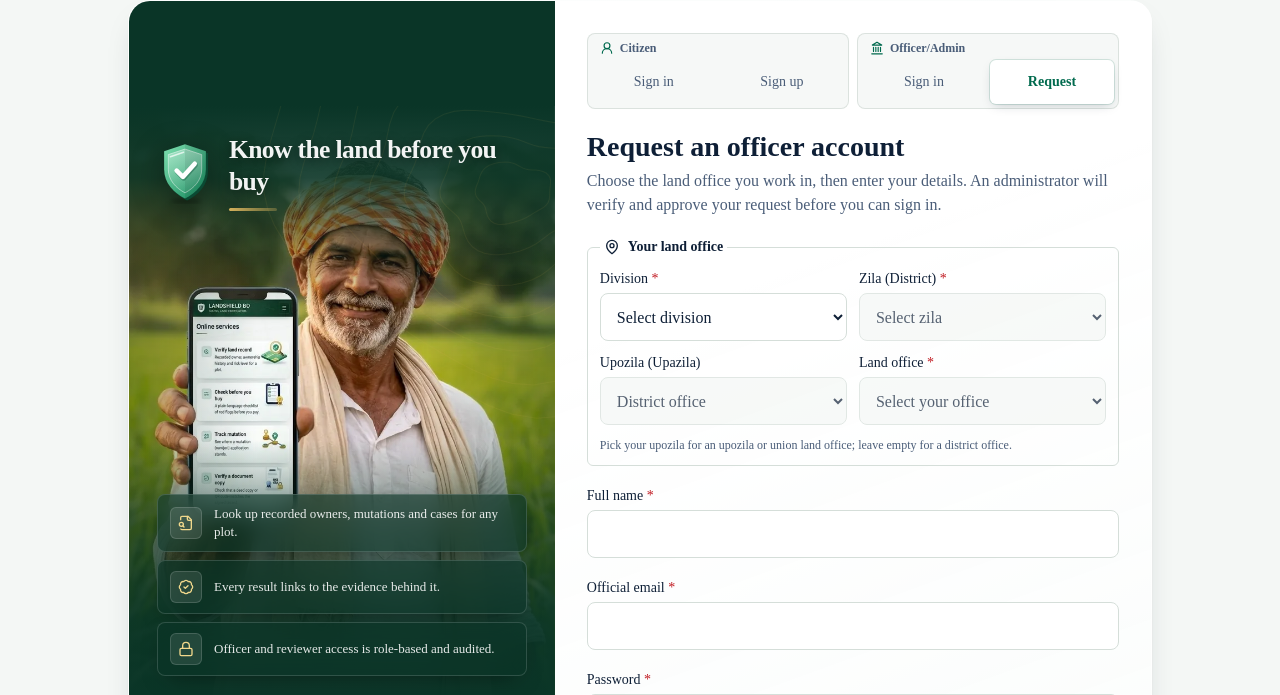
Test: officer signup › cascades division > zila > upozila > office, both languages in every list
Expected: the dropdown labelled "Zila (District) *" is disabled, left=859, top=293, right=1106, bottom=341
Select "Dhaka / ঢাকা" in the dropdown labelled "Division *" at (723, 317), box left=600, top=293, right=847, bottom=341
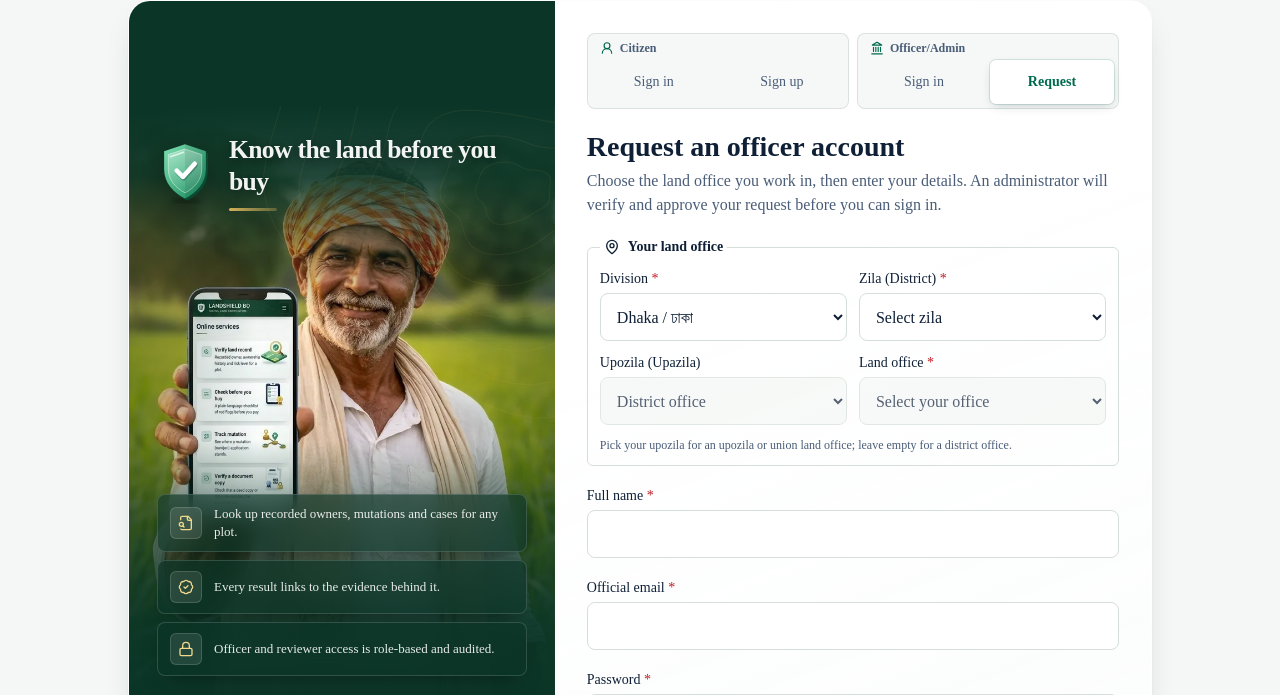
Result: the dropdown labelled "Zila (District) *" is enabled
Select "Dhaka / ঢাকা" in the dropdown labelled "Zila (District) *" at (982, 317), box left=859, top=293, right=1106, bottom=341
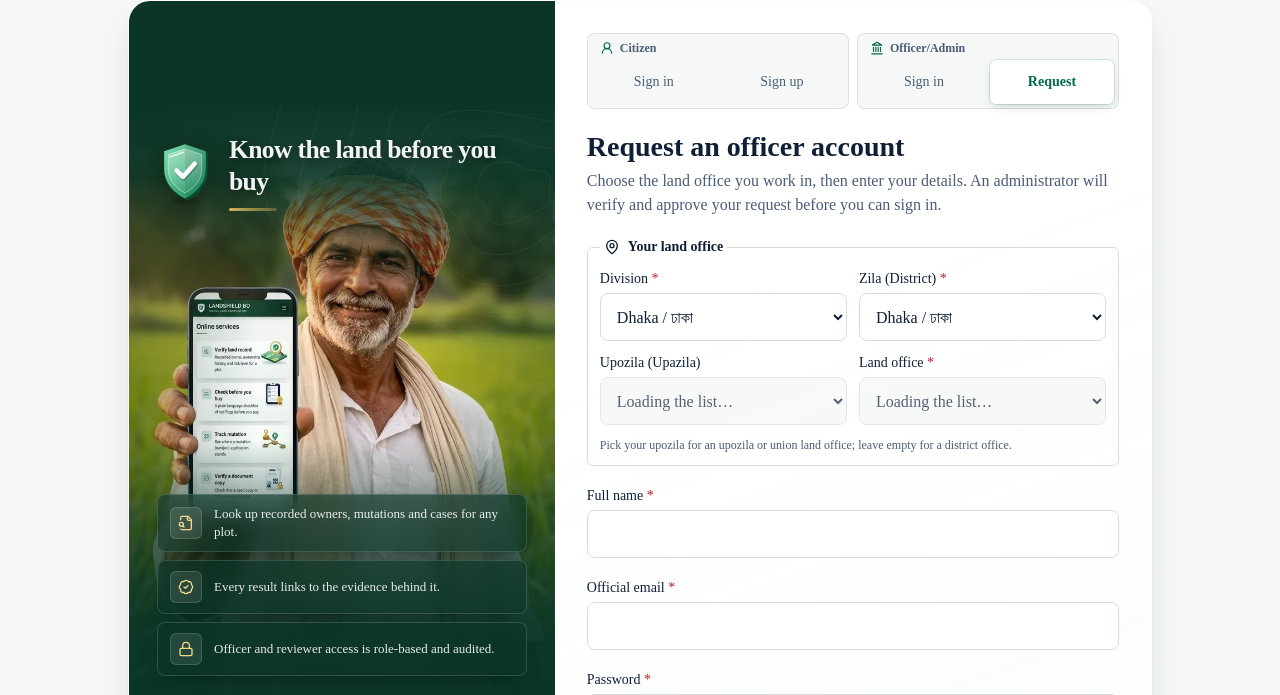
Select "Savar" in the dropdown labelled "Upozila (Upazila)" at (723, 401), box left=600, top=377, right=847, bottom=425
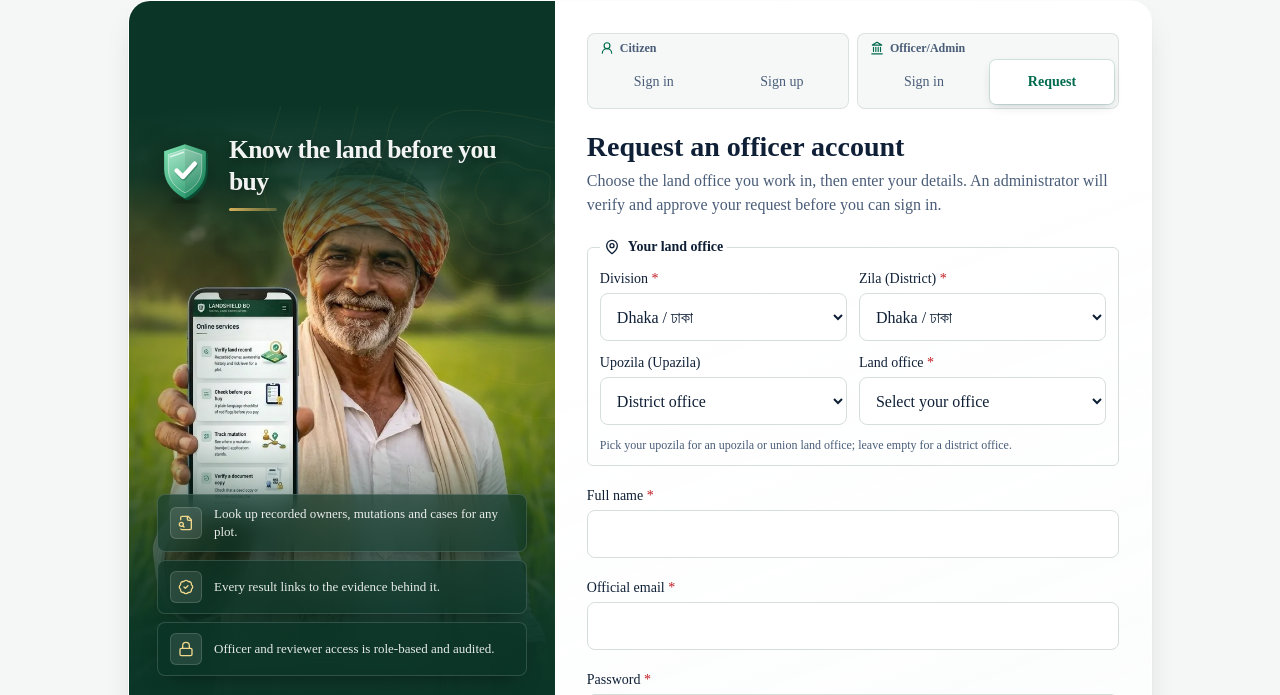
Select "Ashulia Union Land Office (Tahsil Office) / আশুলিয়া ইউনিয়ন ভূমি অফিস (তহসিল অফ" in the dropdown labelled "Land office *" at (982, 401), box left=859, top=377, right=1106, bottom=425
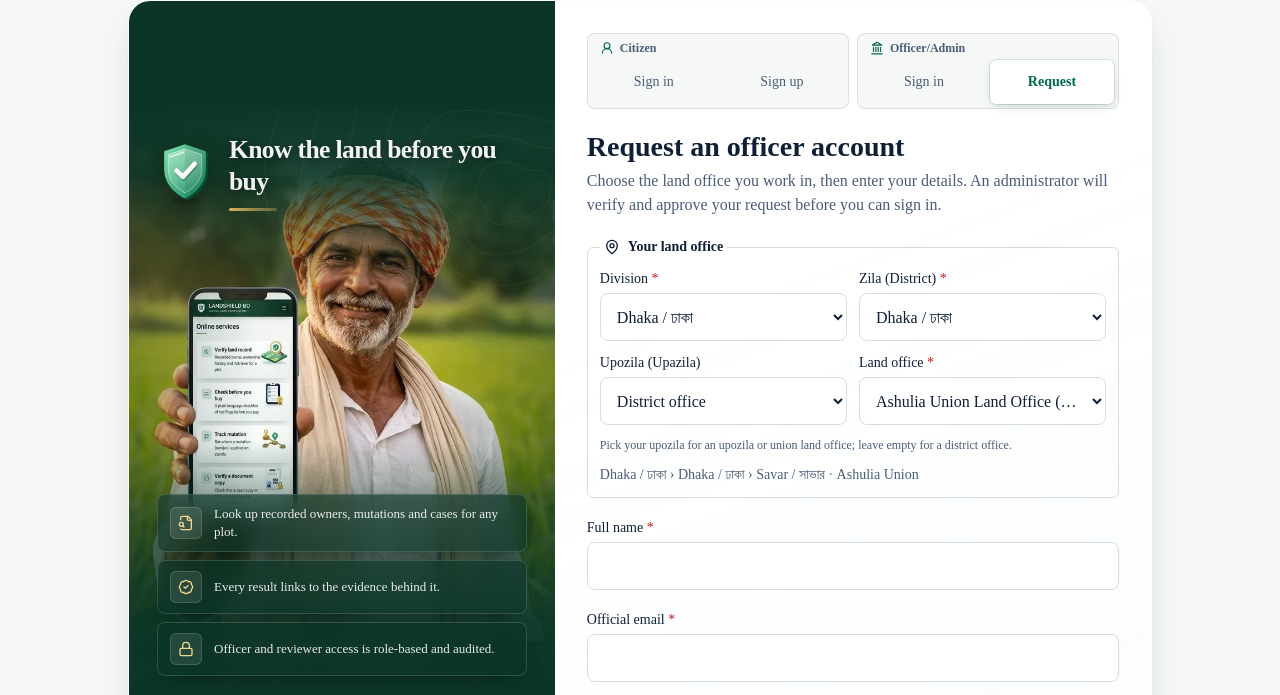
Result: the text with test id "office-path" shows "Dhaka / ঢাকা › Dhaka / ঢাকা › Savar / সাভার" at left=600, top=467, right=825, bottom=482
